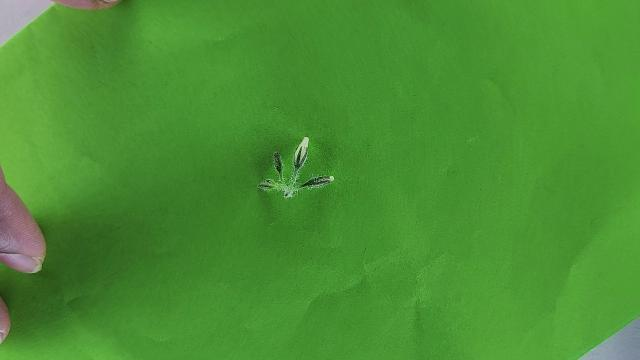Flower Bud: (293, 136, 309, 172), (300, 175, 334, 188), (272, 151, 283, 179), (257, 182, 276, 190)
